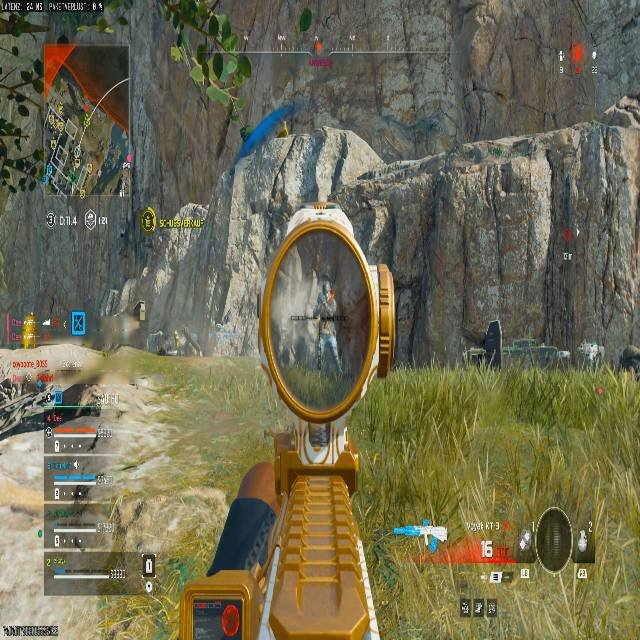player: (312, 283, 339, 370), (477, 317, 501, 369)
